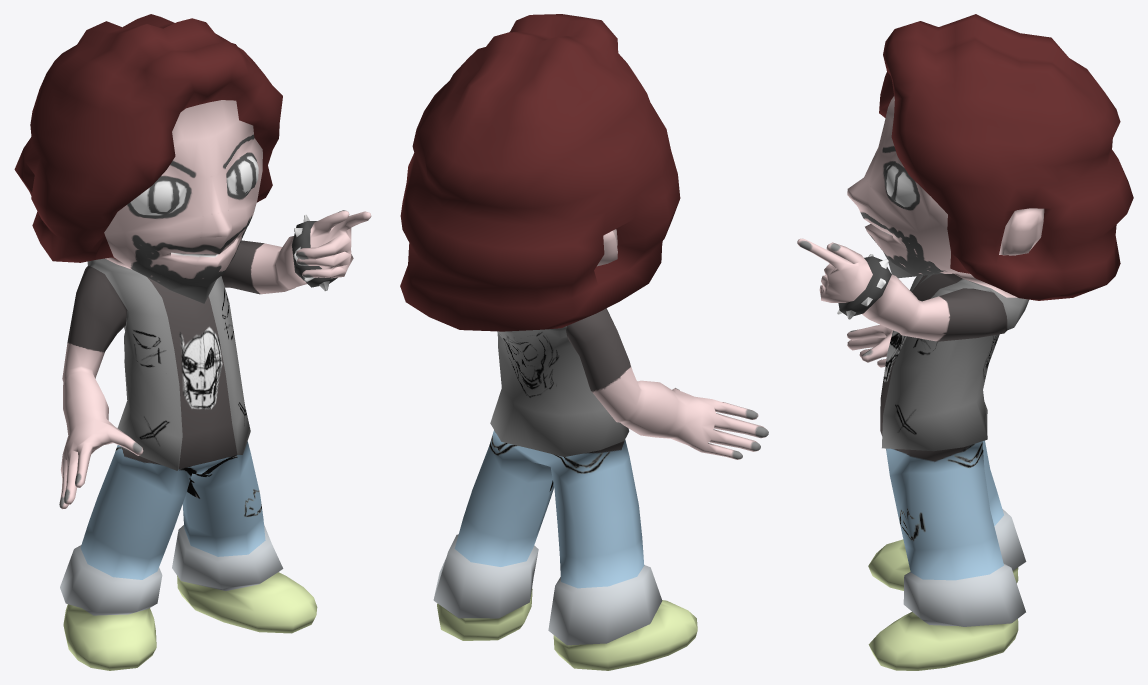
File: rockero_rigging_000085.obj
The picture shows the model from 3 angles, left to right: view 1: azimuth 30°, elevation 25°; view 2: azimuth 150°, elevation 25°; view 3: azimuth 270°, elevation 25°; orthographic projection. The views are drawn at different scales.
Visible parts, largest first — view 1: Cylinder.001; view 2: Cylinder.001; view 3: Cylinder.001.
Boxes of the visible parts, bbox=[...] form: Cylinder.001: bbox=[14, 14, 371, 670]; Cylinder.001: bbox=[400, 14, 768, 670]; Cylinder.001: bbox=[797, 14, 1133, 670].
Bounding box in the file's own units: 2.41 × 4.8 × 2.48.
Materials: 1 (1 with a texture image).
